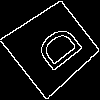D: (26, 22, 85, 79)
